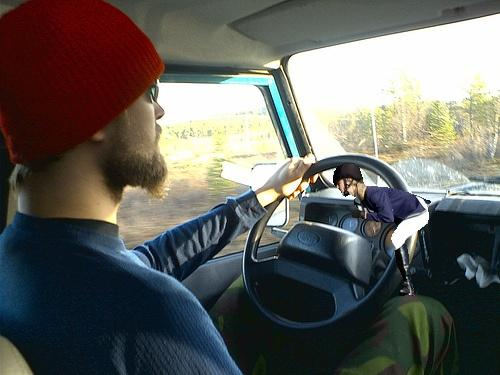tampered: (334, 164, 431, 296)
